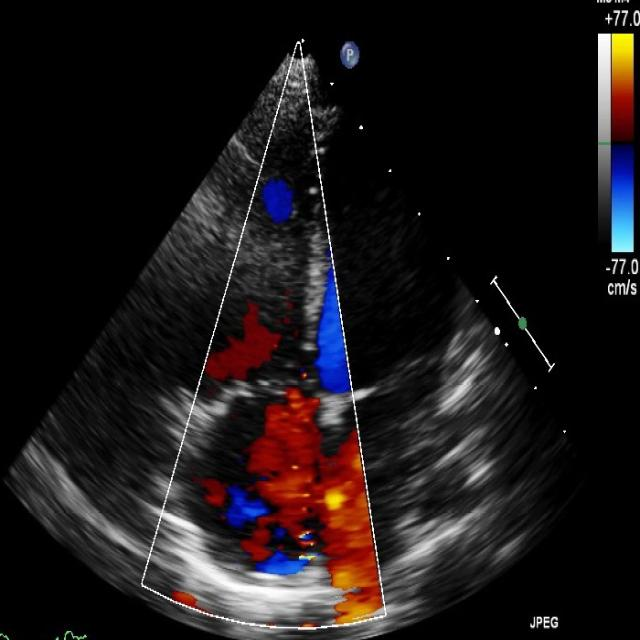ASDType2: (254, 382, 385, 624)
